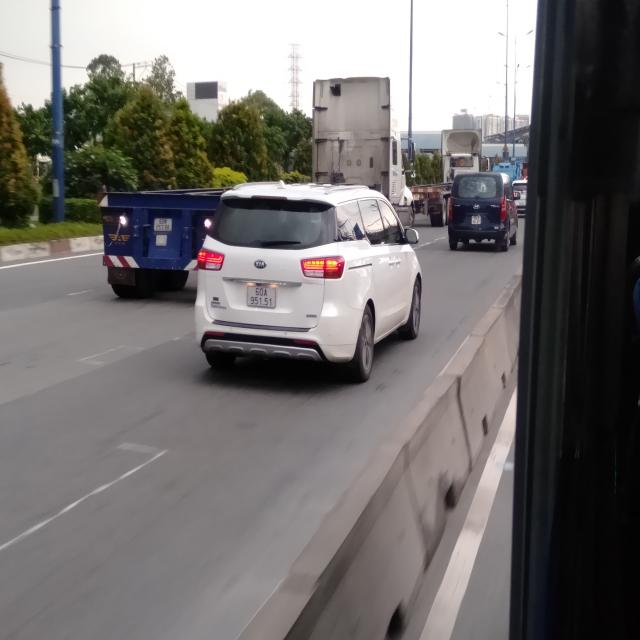bien_trang: (245, 283, 278, 311)
